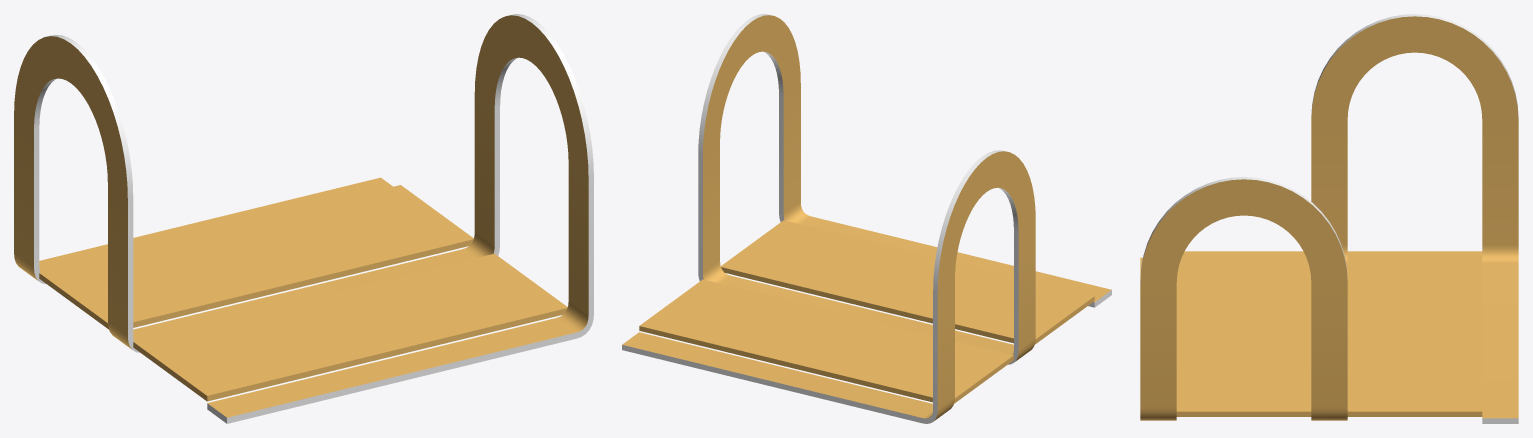
The model's file is OU_AR_Tech_01_D.fbx.
The picture shows the model from 3 angles, left to right: view 1: azimuth 30°, elevation 25°; view 2: azimuth 150°, elevation 25°; view 3: azimuth 270°, elevation 25°; orthographic projection. The views are drawn at different scales.
Parts seen in each view (by area): view 1: OU_AR_Tech_01_D; view 2: OU_AR_Tech_01_D; view 3: OU_AR_Tech_01_D.
Part boxes in pixels (x1,y1,x2,y2): OU_AR_Tech_01_D: [14, 14, 593, 423]; OU_AR_Tech_01_D: [622, 14, 1111, 423]; OU_AR_Tech_01_D: [1140, 14, 1518, 423].
Bounding box in the file's own units: 1378 × 960 × 1332.
